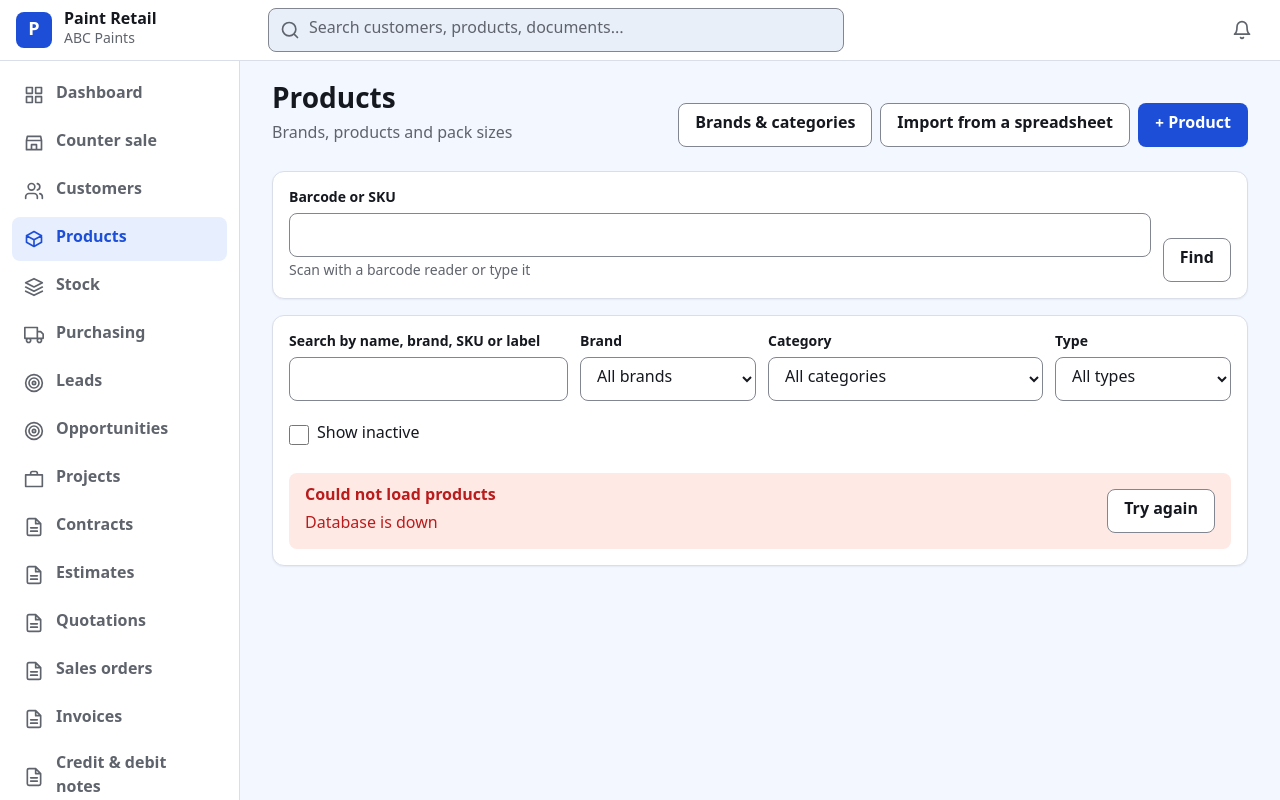
ProductsPage › shows the error with a retry
The image size is (1280, 800).
Check: the text "Database is down" is shown, box [305,514,438,535]
Click the button "Try again".
click(1161, 511)  # box [1107,489,1215,533]
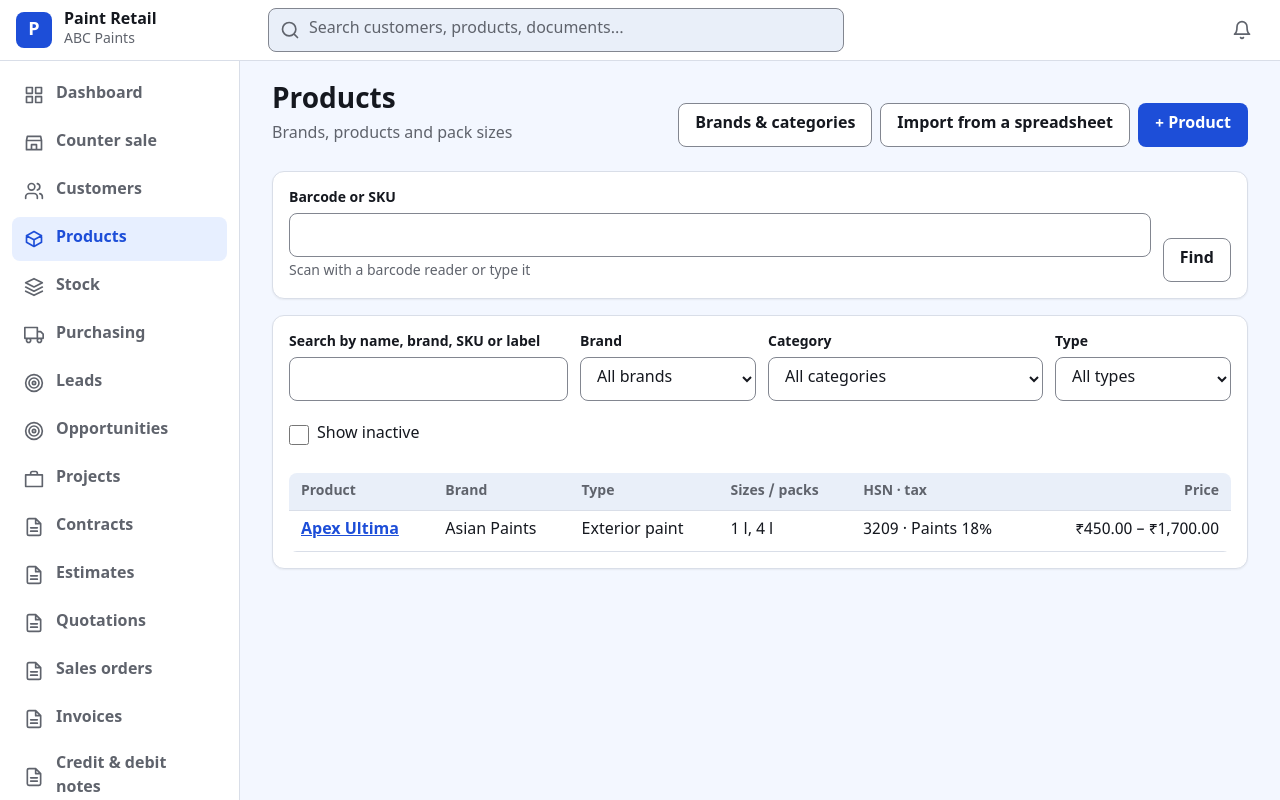
Check: the table named "Products" is shown, box [289,473,1231,552]
